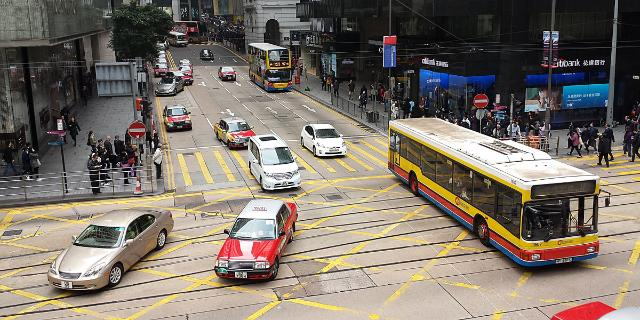bus: (387, 116, 611, 269), (247, 43, 294, 92), (172, 20, 207, 44)
car: (48, 206, 174, 296), (214, 200, 298, 281), (247, 133, 303, 191), (300, 123, 349, 155), (214, 116, 255, 149), (162, 104, 192, 132), (154, 75, 185, 97), (166, 70, 193, 88), (153, 61, 169, 77), (219, 66, 236, 80), (200, 48, 214, 61), (179, 65, 192, 76), (178, 59, 192, 68)
van: (168, 32, 189, 47)
